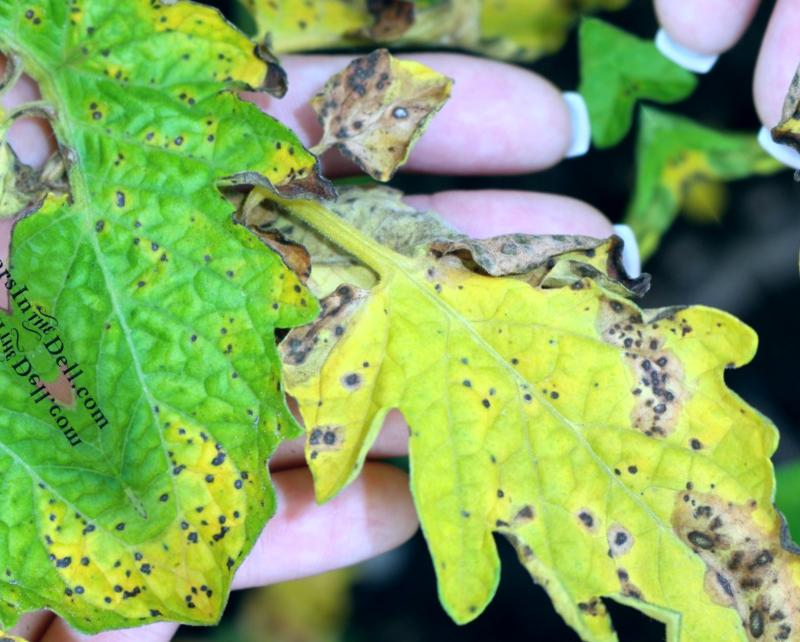Tomato Septoria leaf spot: (0, 2, 491, 624), (250, 104, 800, 642)
